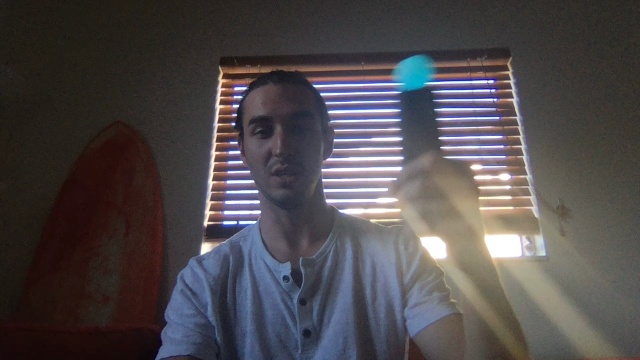wand: (395, 56, 434, 91)
